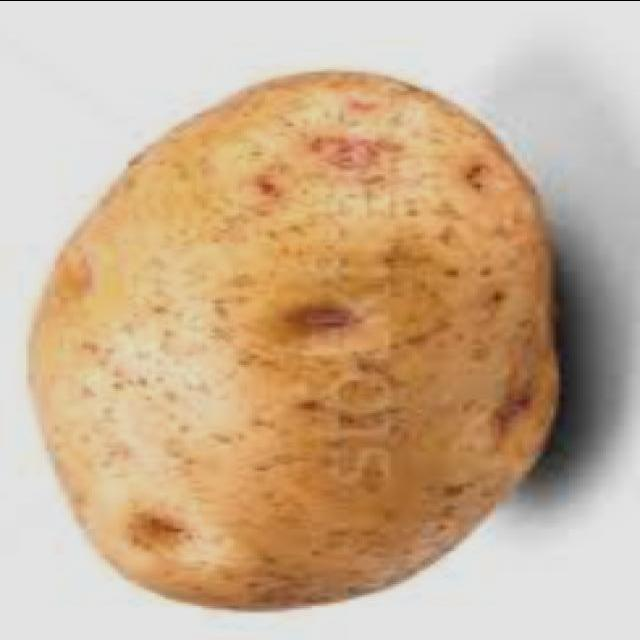potato: (27, 72, 554, 611)
